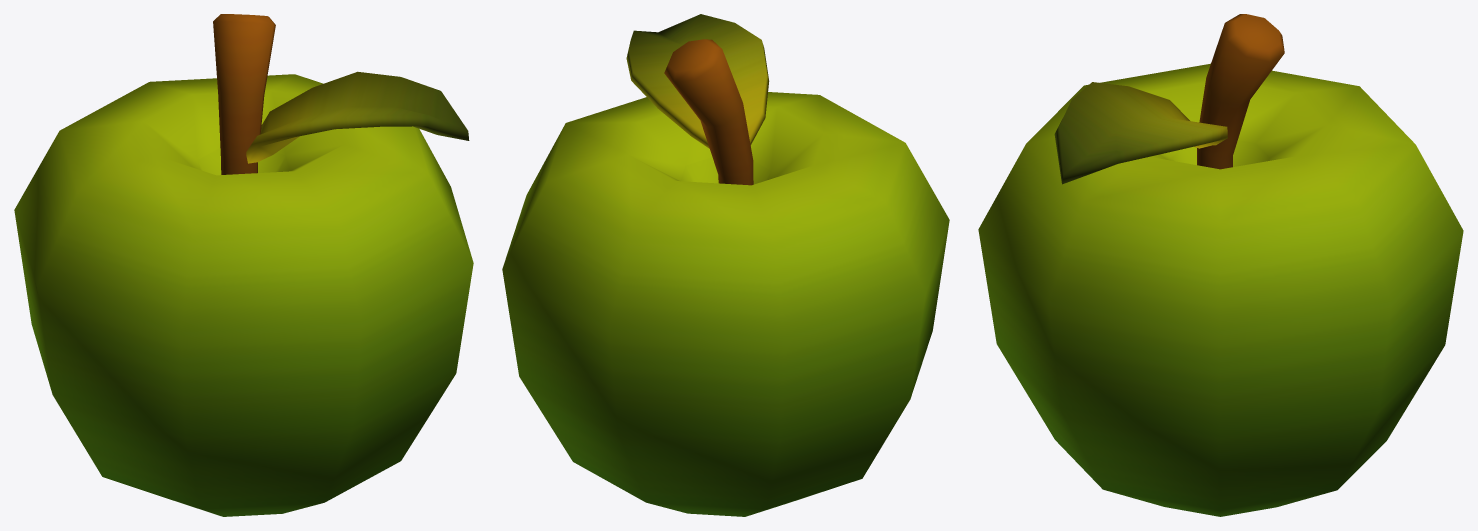
File: SM_Apple_2.fbx
The picture shows the model from 3 angles, left to right: view 1: azimuth 30°, elevation 25°; view 2: azimuth 150°, elevation 25°; view 3: azimuth 270°, elevation 25°; orthographic projection. The views are drawn at different scales.
Parts seen in each view (by area): view 1: SM_Apple_2; view 2: SM_Apple_2; view 3: SM_Apple_2.
Boxes of the visible parts, x1=… form: SM_Apple_2: x1=14, y1=14, x2=473, y2=516; SM_Apple_2: x1=502, y1=14, x2=949, y2=516; SM_Apple_2: x1=978, y1=14, x2=1463, y2=516.
Size of the model in its own units: 9.64 by 10.31 by 9.64.
1 material, 1 textured.
